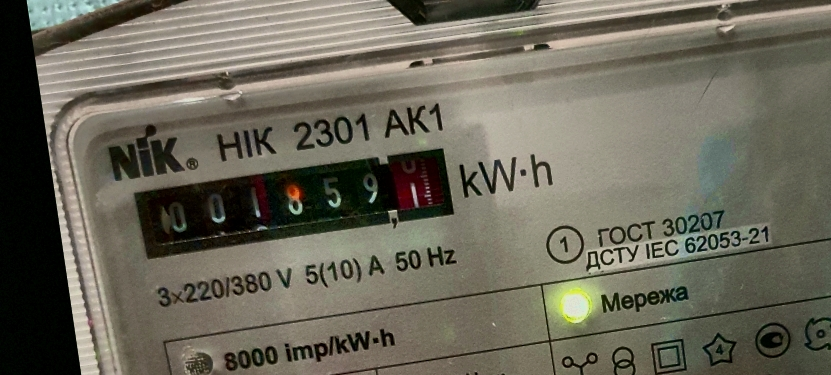0: (165, 197, 190, 235), (204, 189, 228, 224)
1: (247, 182, 263, 219), (406, 177, 422, 209)
5: (320, 172, 345, 210)
8: (282, 179, 306, 217)
9: (358, 168, 382, 205)
screen: (121, 133, 466, 270)
